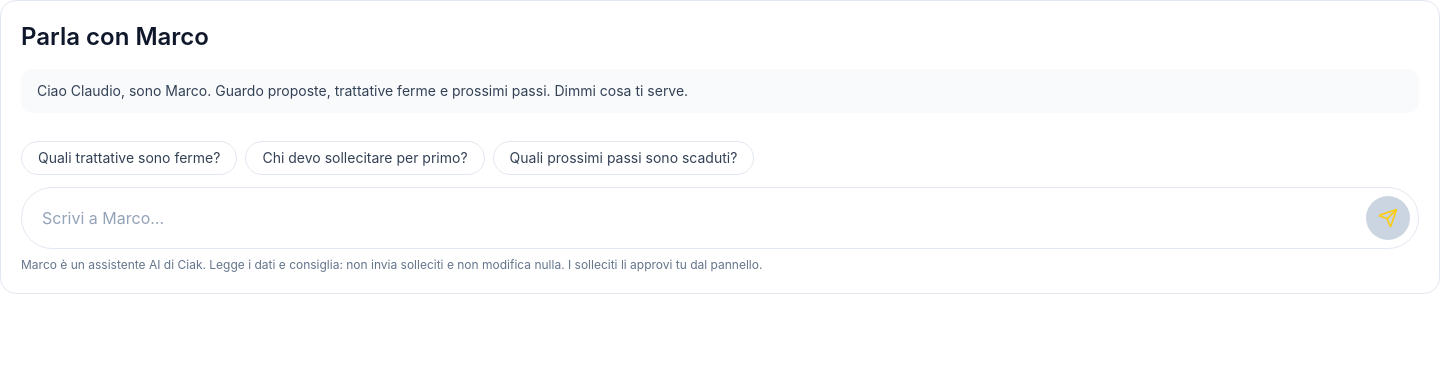
Test: marco: saluta, chiama il suo percorso e mostra la risposta
The width and height of the screenshot is (1440, 373).
Expected: the text "sono Marco" is shown, [37,82,688,99]
In the field labelled "Scrivi a Marco": (698, 218) [42,206,1354,230], type "A che punto siamo?"
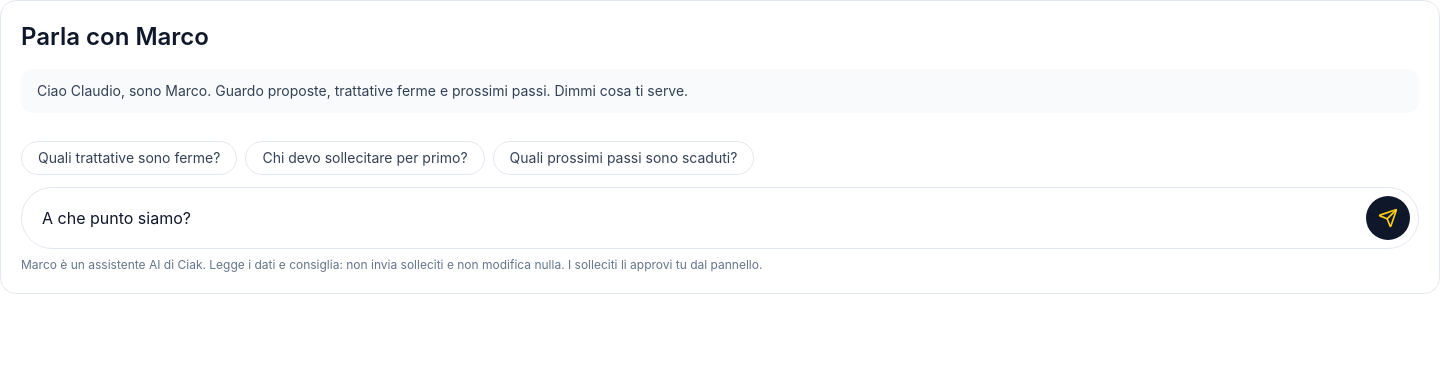
Click the button named "Invia a Marco": (1388, 218) [1366,196,1410,240]
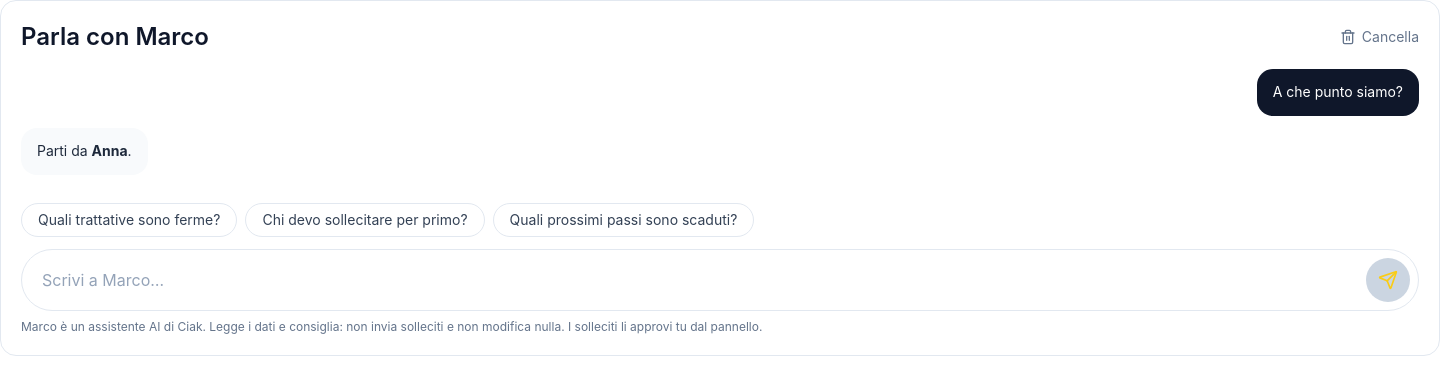
Now the text "Anna" is shown, box [92,142,128,159]
